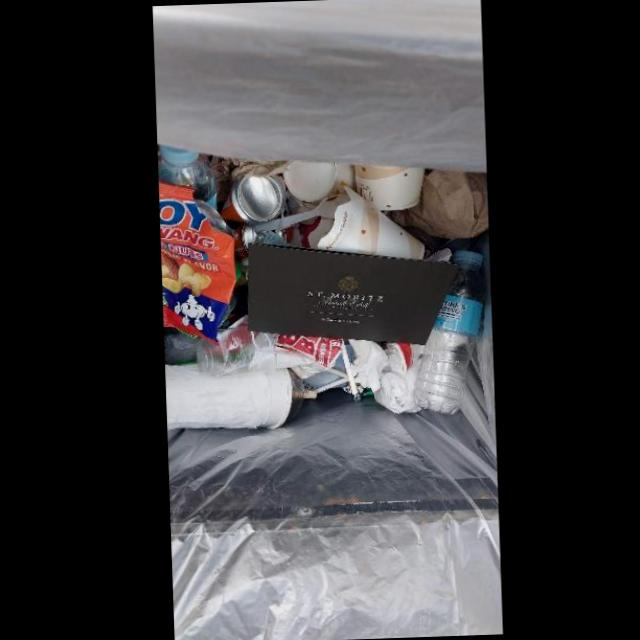bao_bi_thuc_pham: (158, 179, 236, 345)
carton: (247, 243, 460, 344), (307, 183, 425, 259), (351, 161, 425, 210)
chai_nhua_pet: (414, 249, 482, 414), (157, 144, 216, 207)
giay: (395, 167, 488, 238)
nhom: (220, 174, 285, 223)
ong_hut_nhua: (341, 339, 357, 394), (326, 367, 348, 378)
